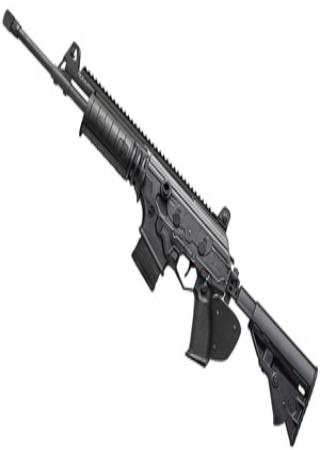weapon: (3, 11, 317, 447)
